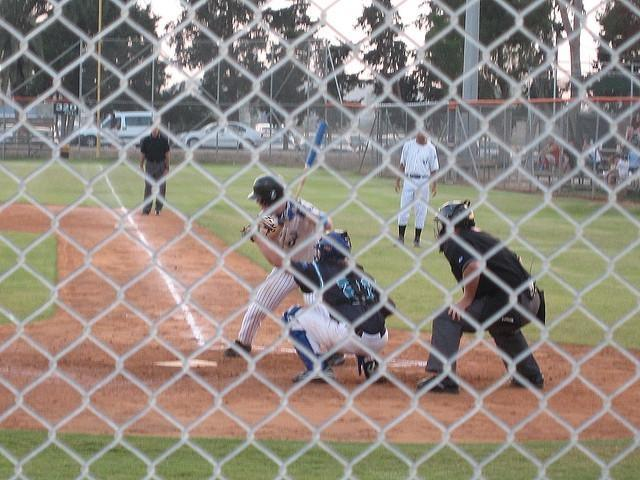car: (176, 120, 264, 150), (308, 131, 354, 152), (254, 122, 284, 148)
truck: (70, 110, 152, 146)
